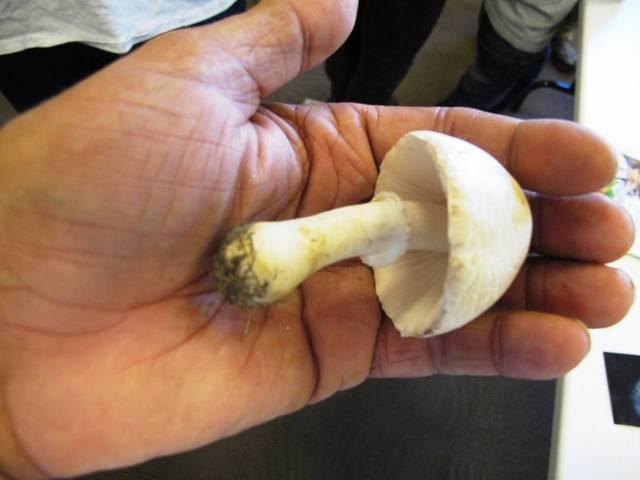Non-edible Mushroom: (209, 128, 533, 339)
